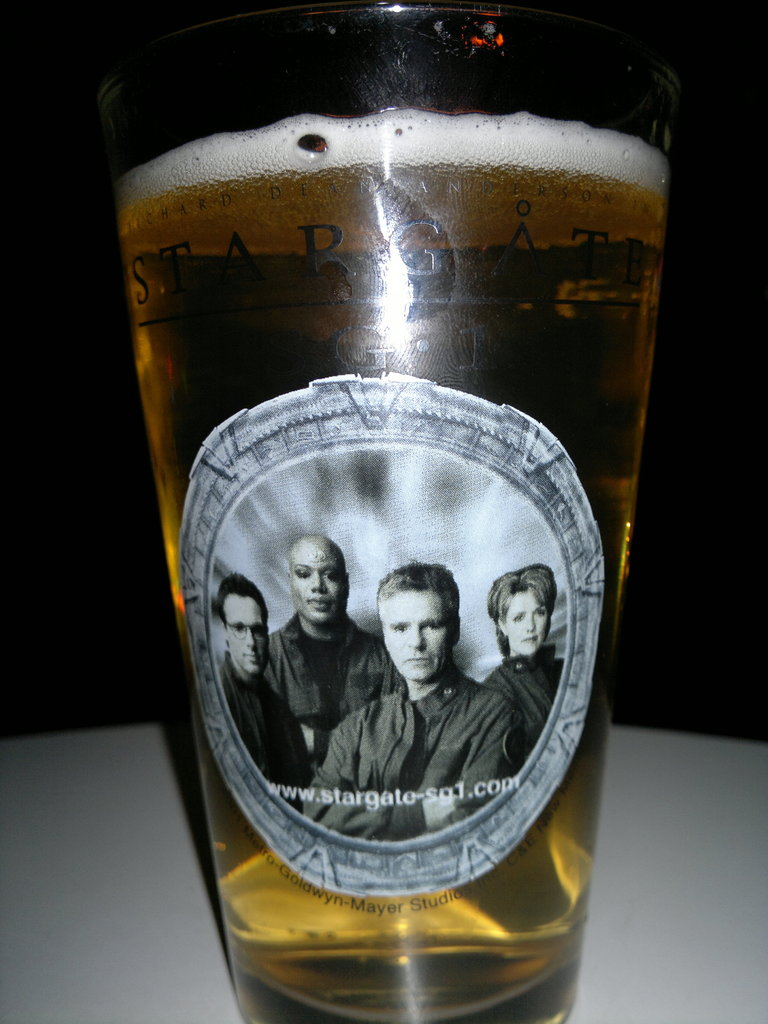Beer: (113, 106, 668, 1024)
